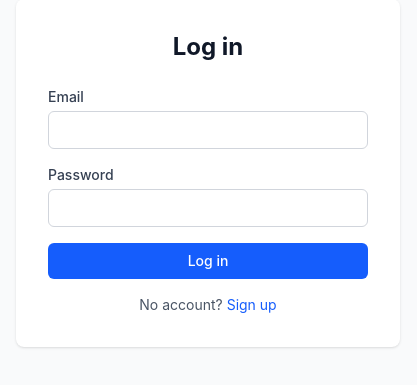
LoginPage › shows both required-field errors and sends nothing when submitted empty
The image size is (417, 385).
Step 1. Click the button "Log in" → (208, 261), box x1=48 y1=243 x2=368 y2=279
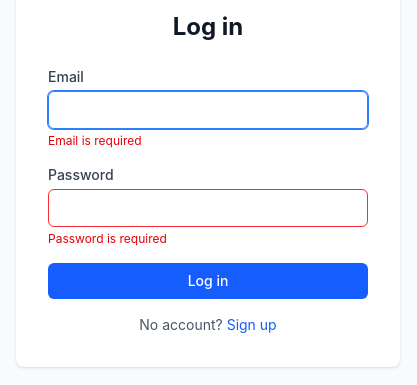
Expected: the text "Email is required" is shown, x1=48 y1=133 x2=142 y2=148
Expected: the text "Password is required" is shown, x1=48 y1=231 x2=167 y2=246
